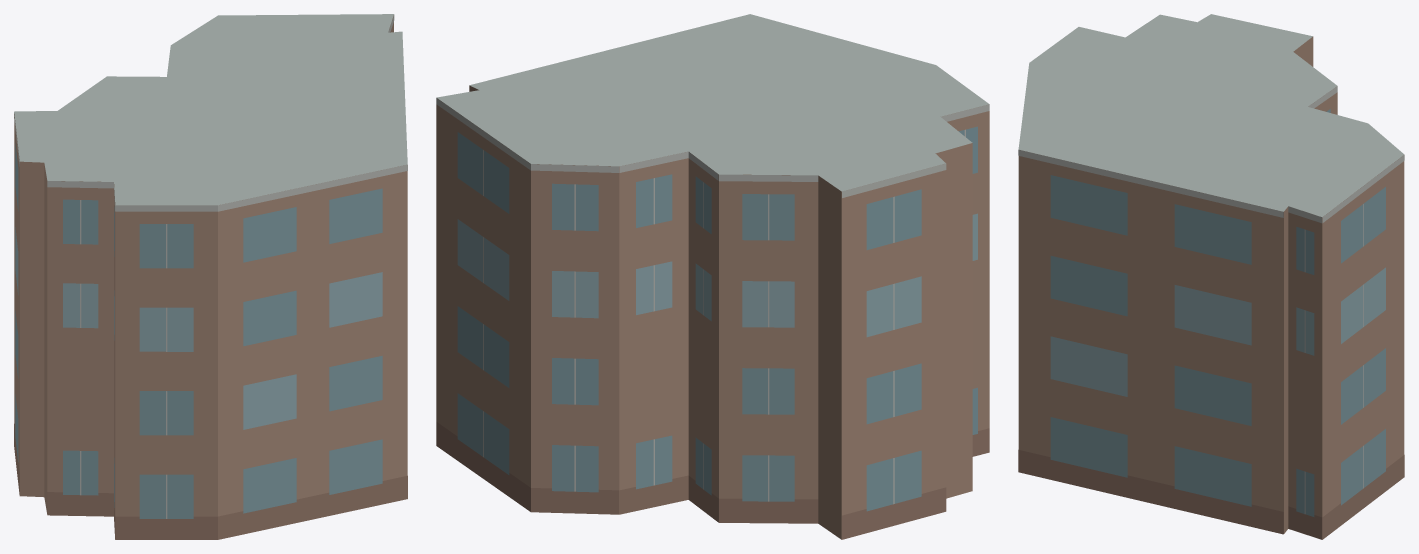
Rendered from survey-upis-32511987.glb.
3 views of the same model, side by side, from view 1: azimuth 30°, elevation 25°; view 2: azimuth 150°, elevation 25°; view 3: azimuth 270°, elevation 25° (orthographic). The views are drawn at different scales.
Visible parts, largest first — view 1: survey-upis-32511987.tmp; view 2: survey-upis-32511987.tmp; view 3: survey-upis-32511987.tmp.
Boxes of the visible parts, left/top/right/bottom form: survey-upis-32511987.tmp: left=14, top=14, right=407, bottom=539; survey-upis-32511987.tmp: left=436, top=14, right=989, bottom=539; survey-upis-32511987.tmp: left=1018, top=14, right=1404, bottom=539.
Size of the model in its own units: 17.17 by 12.7 by 13.78.
